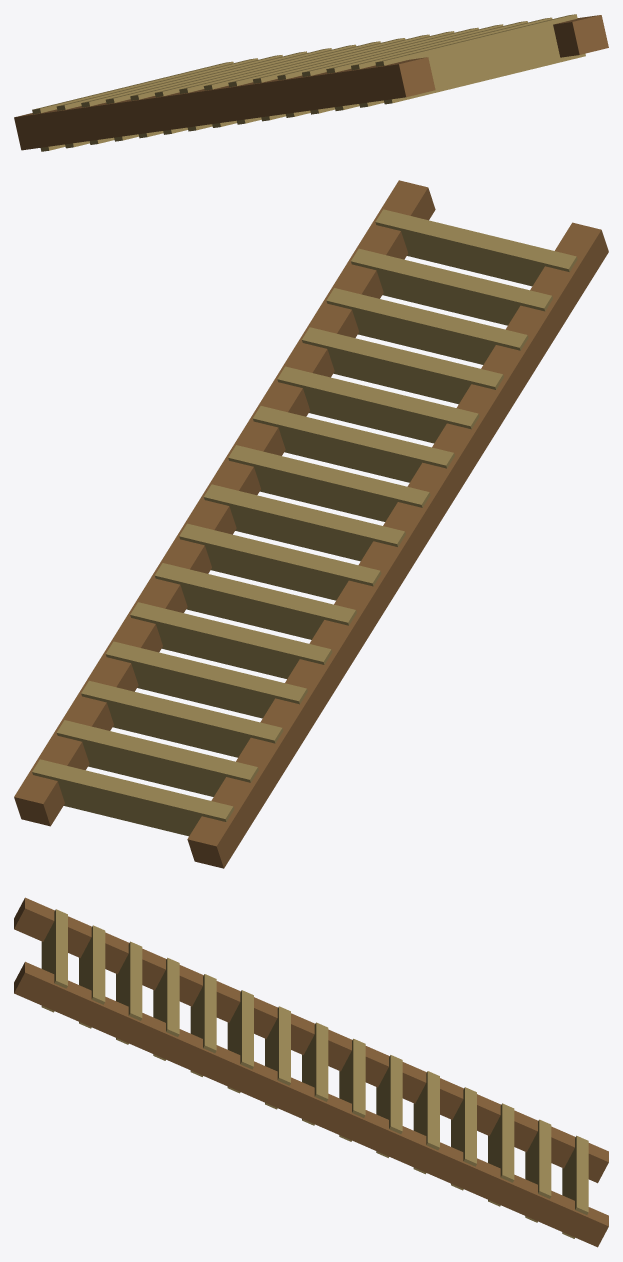
Rendered from ladder_2.4.glb.
3 views of the same model, one above another, from view 1: azimuth 30°, elevation 25°; view 2: azimuth 150°, elevation 25°; view 3: azimuth 270°, elevation 25° (orthographic). The views are drawn at different scales.
Parts seen in each view (by area): view 1: part_0, part_16, part_1, part_5, part_6, part_7, part_10, part_15, part_2, part_3, part_11, part_12 (+5 smaller); view 2: part_0, part_1, part_4, part_3, part_9, part_10, part_12, part_13, part_16, part_5, part_7, part_15 (+5 smaller); view 3: part_1, part_0, part_15, part_4, part_14, part_9, part_3, part_8, part_13, part_2, part_7, part_12 (+5 smaller).
Part boxes in pixels (<box>): part_0: <box>14,57,435,150</box>; part_16: <box>375,14,585,104</box>; part_1: <box>553,15,608,57</box>; part_5: <box>105,51,307,141</box>; part_6: <box>130,48,331,138</box>; part_7: <box>154,44,356,134</box>; part_10: <box>228,34,429,124</box>; part_15: <box>351,17,552,107</box>; part_2: <box>32,61,233,151</box>; part_3: <box>56,58,258,148</box>; part_11: <box>253,31,454,121</box>; part_12: <box>277,27,478,117</box>; part_0: <box>187,222,608,868</box>; part_1: <box>14,180,435,826</box>; part_4: <box>81,680,283,757</box>; part_3: <box>56,720,258,796</box>; part_9: <box>204,484,405,561</box>; part_10: <box>228,445,430,521</box>; part_12: <box>277,366,479,443</box>; part_13: <box>302,327,503,404</box>; part_16: <box>375,209,577,286</box>; part_5: <box>105,641,307,718</box>; part_7: <box>154,563,356,639</box>; part_15: <box>351,248,552,325</box>; part_1: <box>14,961,608,1247</box>; part_0: <box>14,897,608,1183</box>; part_15: <box>79,925,105,1028</box>; part_4: <box>488,1103,514,1206</box>; part_14: <box>116,941,142,1044</box>; part_9: <box>302,1022,328,1125</box>; part_3: <box>525,1119,551,1222</box>; part_8: <box>339,1038,365,1141</box>; part_13: <box>153,957,179,1060</box>; part_2: <box>562,1135,588,1238</box>; part_7: <box>376,1055,402,1157</box>; part_12: <box>190,974,216,1076</box>.
Size of the model in its own units: 1.52 by 2.6 by 5.1.
